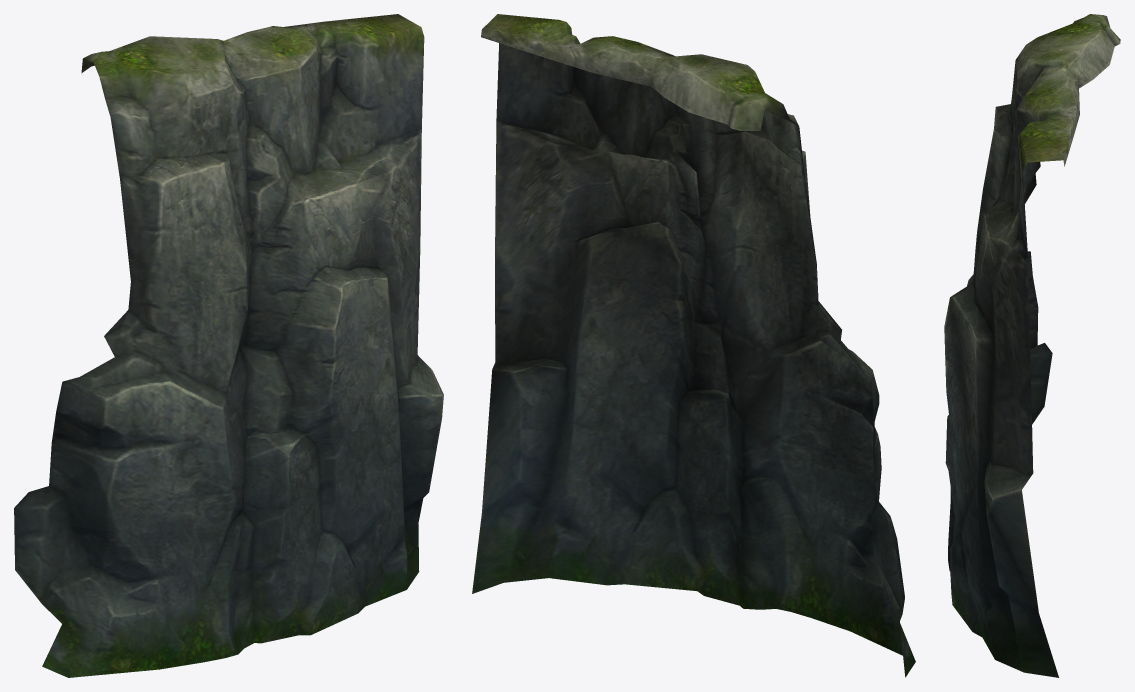
File: QHS_shanshi02.FBX
3 views of the same model, side by side, from view 1: azimuth 30°, elevation 25°; view 2: azimuth 150°, elevation 25°; view 3: azimuth 270°, elevation 25° (orthographic). The views are drawn at different scales.
Visible parts, largest first — view 1: QHS_shanshi01; view 2: QHS_shanshi01; view 3: QHS_shanshi01.
Boxes of the visible parts, x1,y1,x2,y2 form: QHS_shanshi01: (14,14,443,677); QHS_shanshi01: (472,14,915,677); QHS_shanshi01: (944,14,1120,677).
Size of the model in its own units: 2877 by 3808 by 1146.
